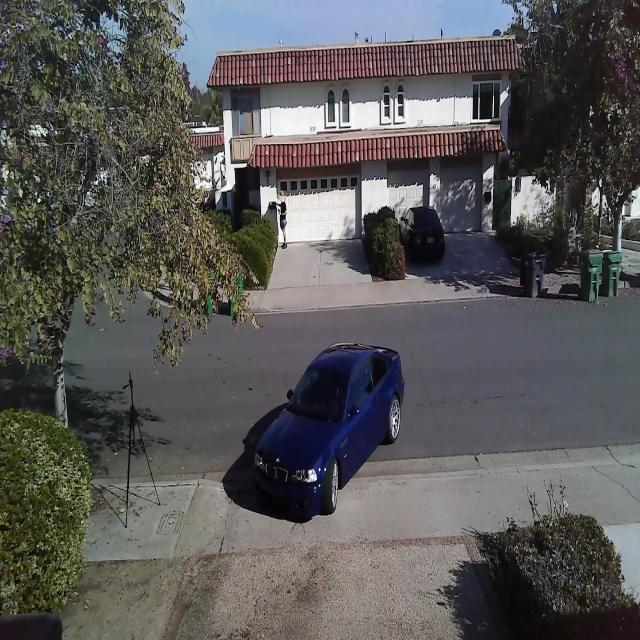Carbeetle: (246, 331, 411, 527)
Civilian: (399, 205, 445, 263)
